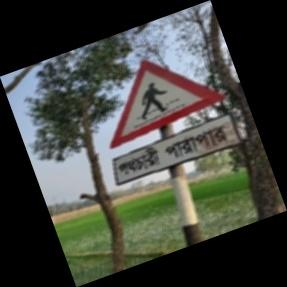Pedestrian-crossing: (108, 58, 243, 188)
